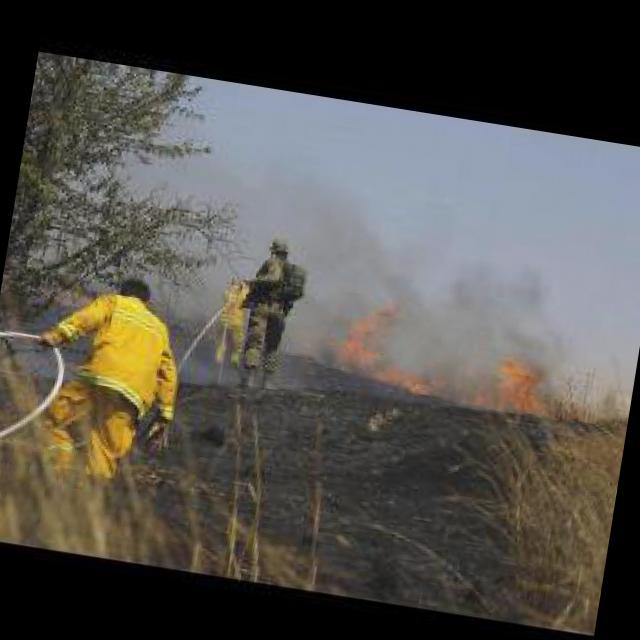fire: (328, 302, 447, 398), (464, 354, 577, 419)
smoke: (288, 214, 570, 376)
